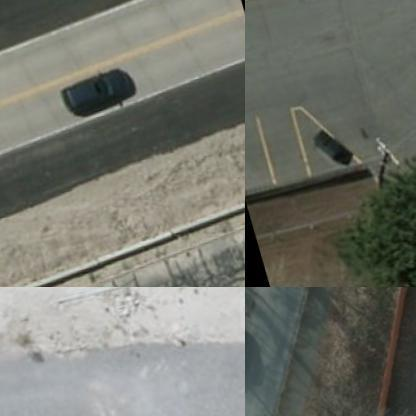car: (58, 69, 132, 116), (308, 124, 350, 171)
